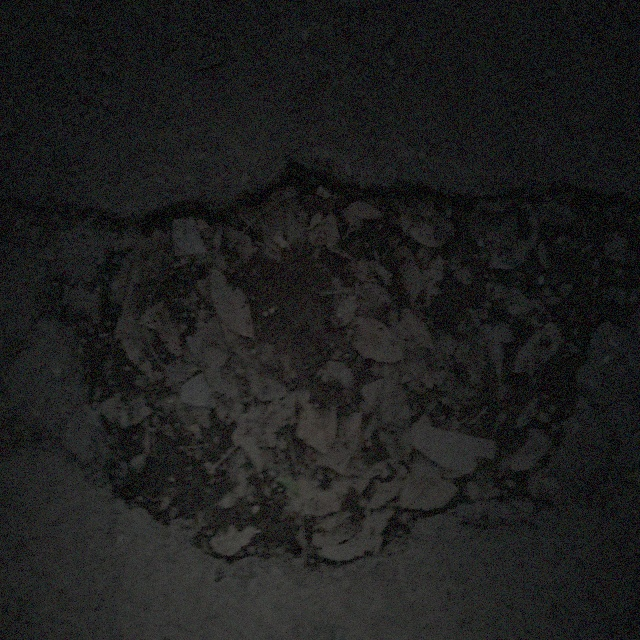pothole: (62, 155, 613, 577)
